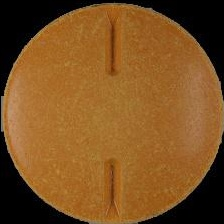0591-0796: (0, 0, 224, 224)
